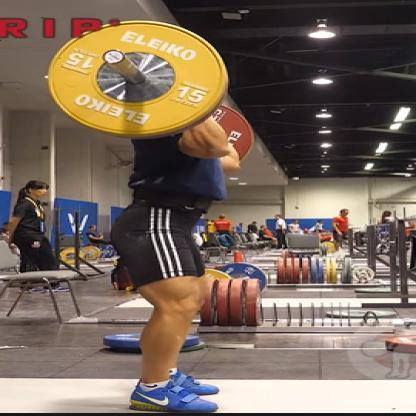barbell: (47, 17, 254, 170)
